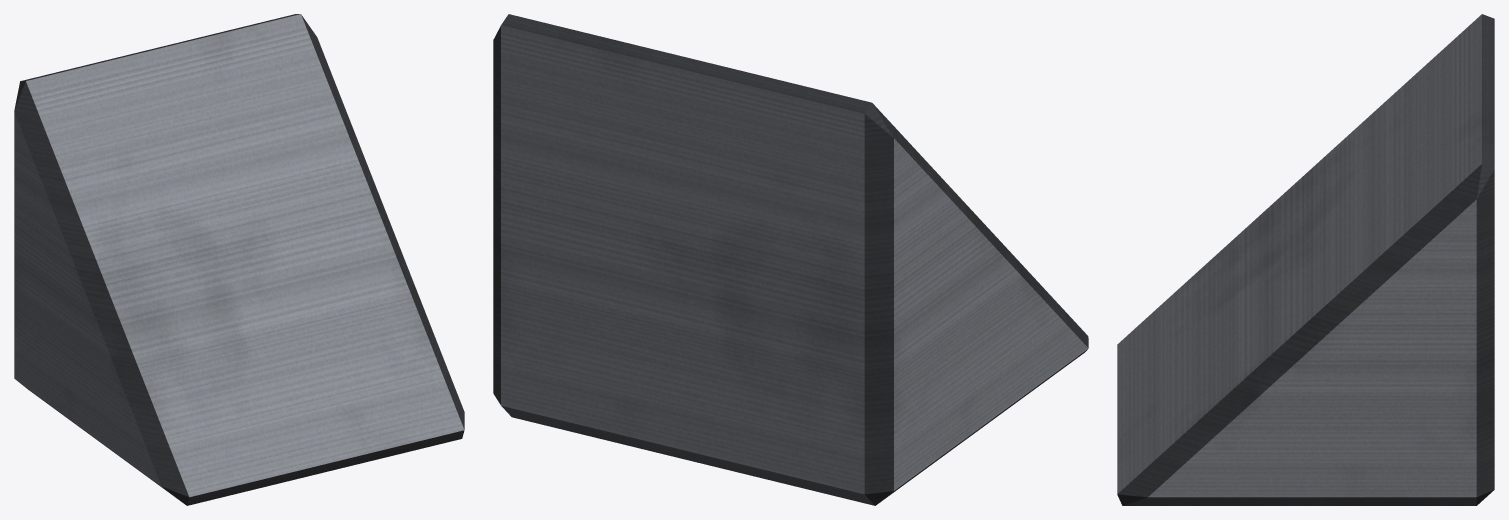
File: R4B_Wedge_LOD1.glb
3 views of the same model, side by side, from view 1: azimuth 30°, elevation 25°; view 2: azimuth 150°, elevation 25°; view 3: azimuth 270°, elevation 25° (orthographic). The views are drawn at different scales.
Visible parts, largest first — view 1: R4B_Wedge_LOD1; view 2: R4B_Wedge_LOD1; view 3: R4B_Wedge_LOD1.
Part boxes in pixels (x1,y1,x2,y2): R4B_Wedge_LOD1: [14, 14, 464, 505]; R4B_Wedge_LOD1: [493, 14, 1088, 505]; R4B_Wedge_LOD1: [1117, 14, 1494, 505].
Size of the model in its own units: 0.52 by 0.503 by 0.503.
Materials: 2 (2 with a texture image).
